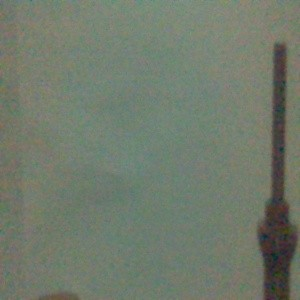obeng: (256, 43, 297, 300)
